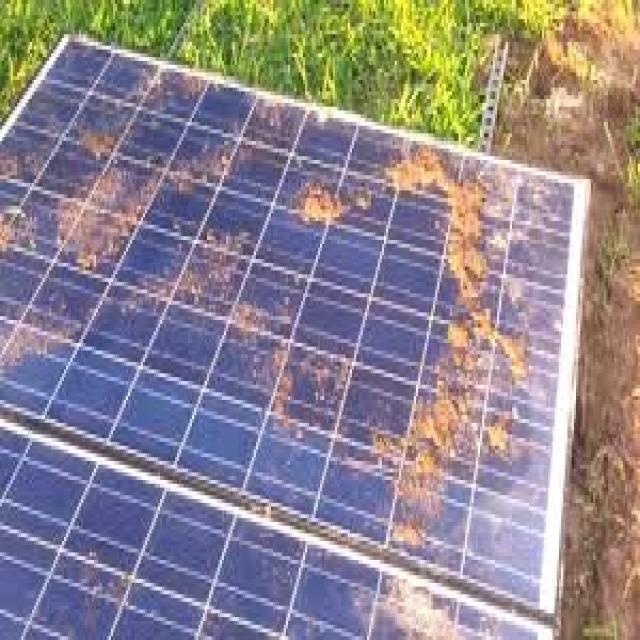faulty: (0, 40, 577, 616)
